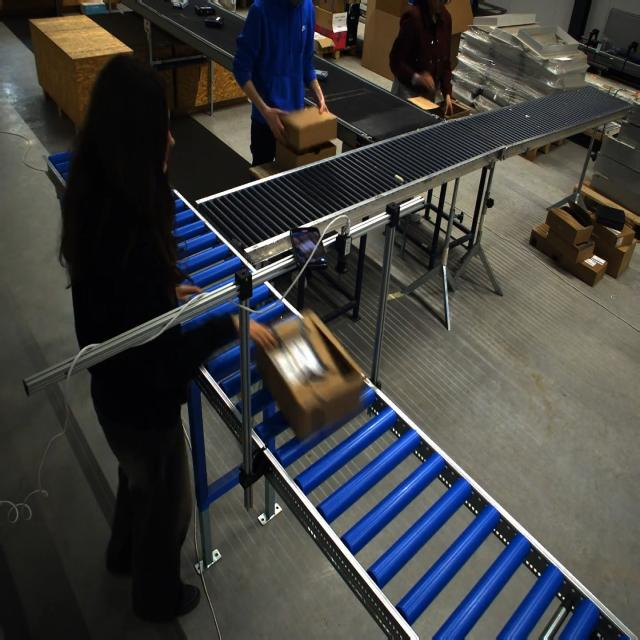box: (255, 309, 362, 440), (278, 105, 335, 154)
product: (204, 15, 224, 28), (194, 4, 214, 16), (170, 0, 188, 9), (313, 69, 329, 79)
